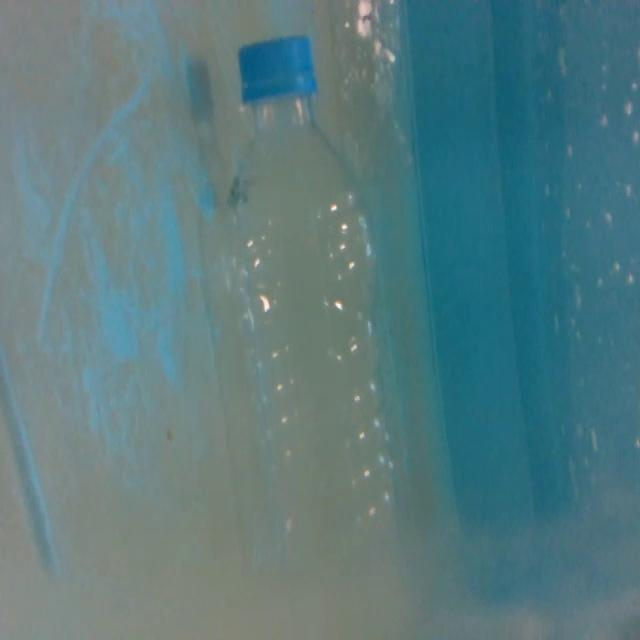plastic bottle: (205, 33, 410, 561)
